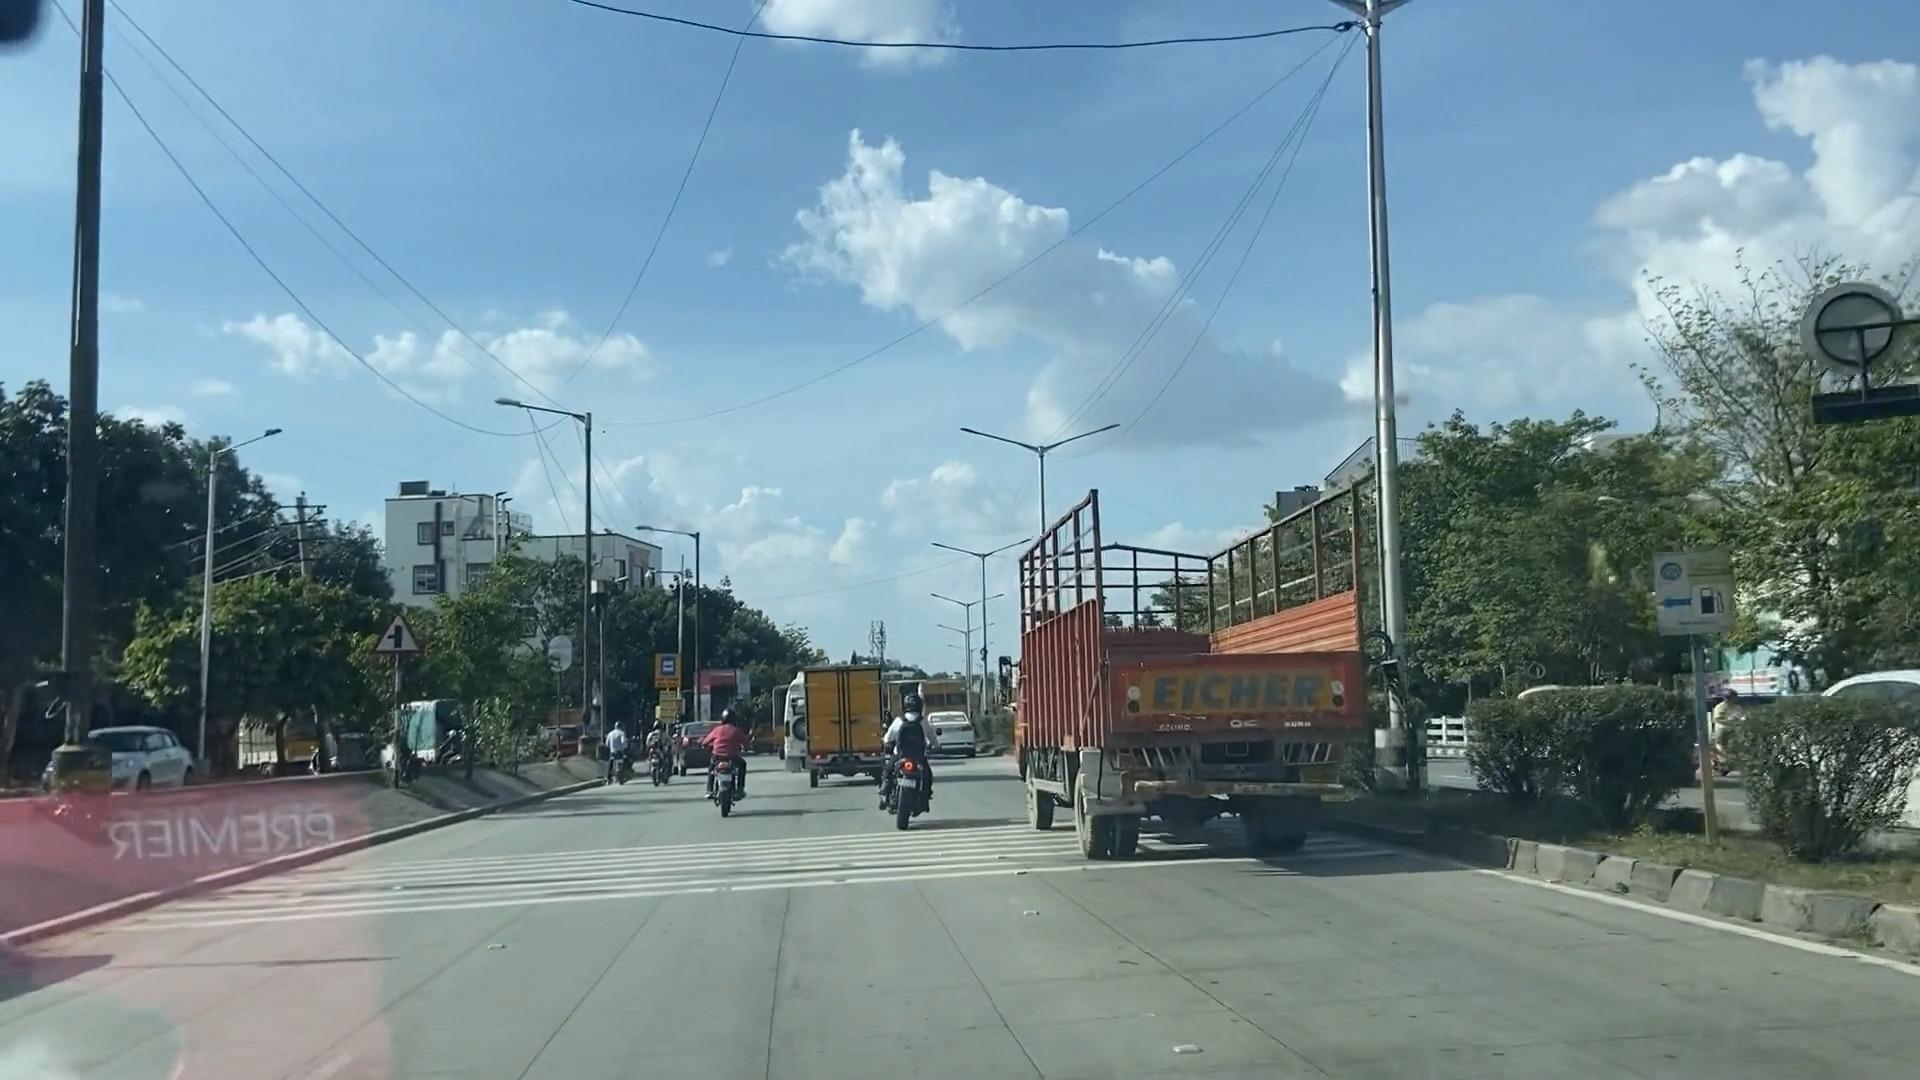HMV: (971, 472, 1393, 839)
LMV: (881, 691, 940, 825)
SpeedBump: (281, 814, 1100, 926)
